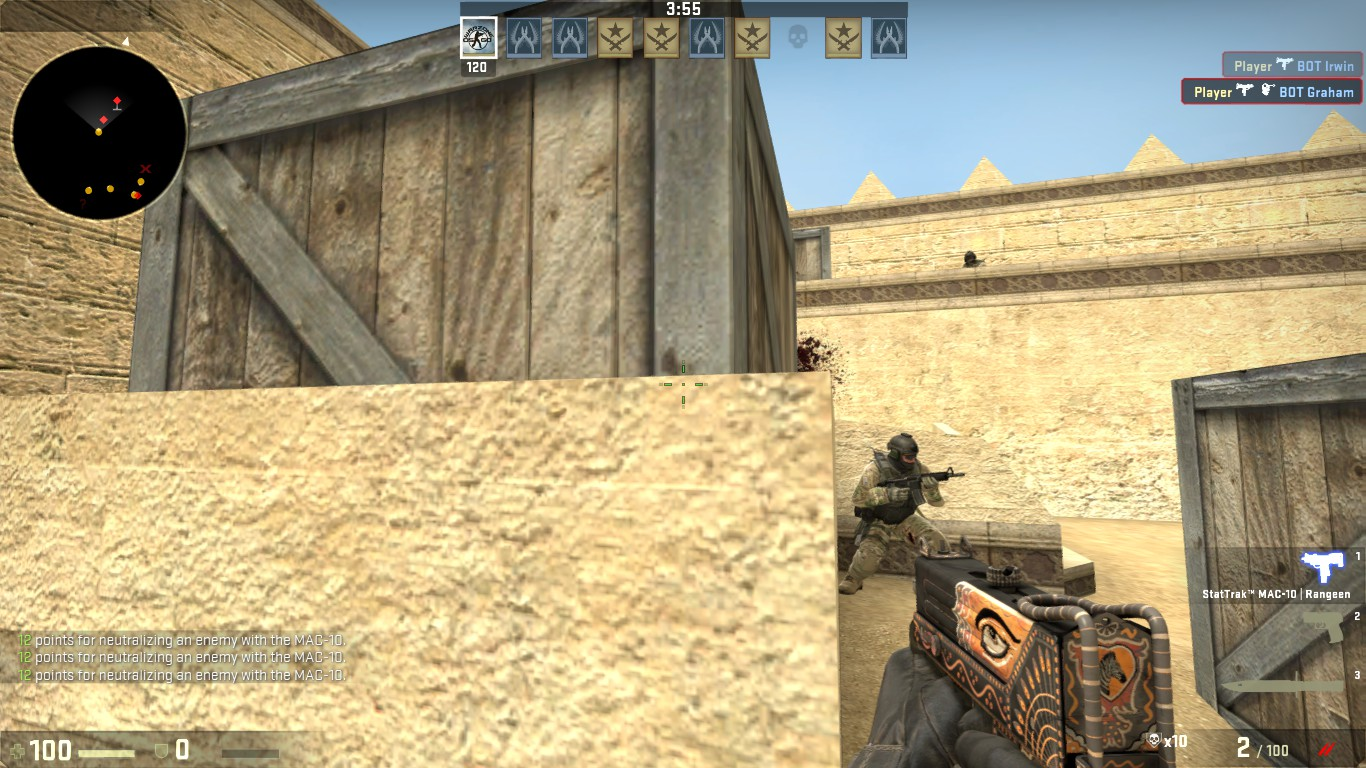c: (844, 429, 954, 590)
ch: (885, 431, 923, 476)
